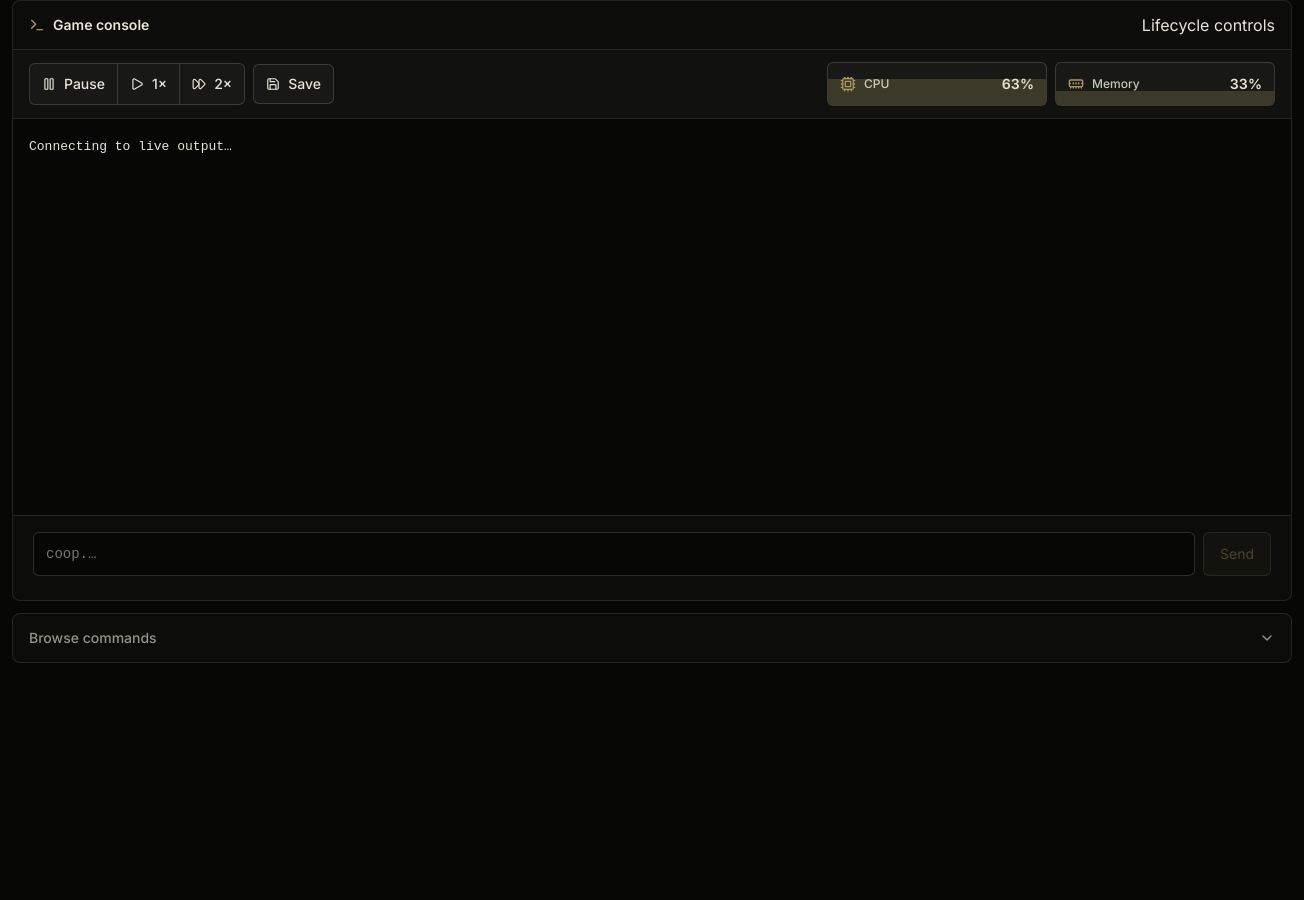
it: reports a save the server did not complete: [DedicatedServer] operator save FAILED (IOError; world keeps running)
Click the button "Save" at (294, 84), box top-left (253, 64), bottom-right (334, 104)
Wait 31000 ms
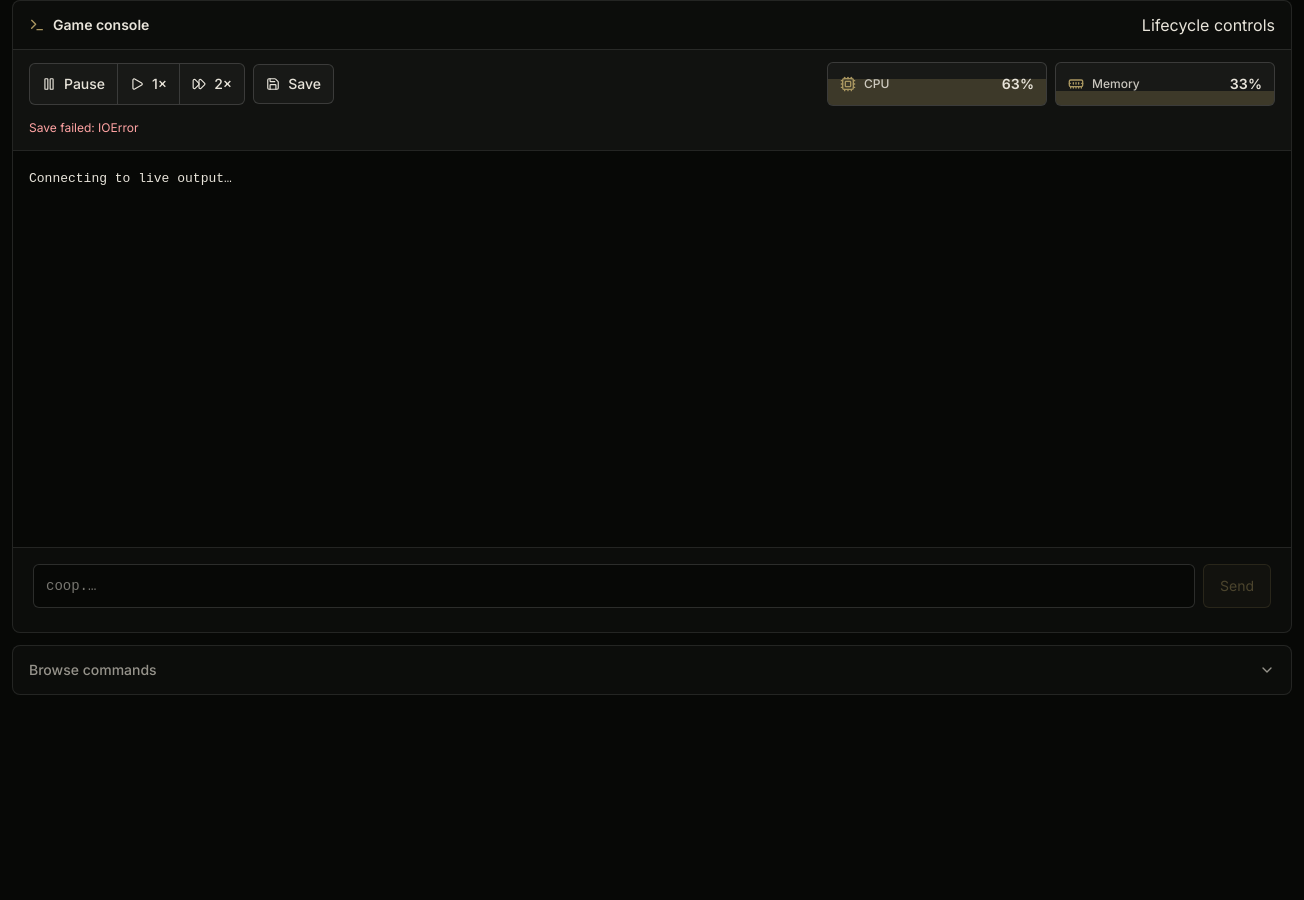
Check: the message "Save failed: IOError" is shown, box top-left (29, 118), bottom-right (138, 138)
